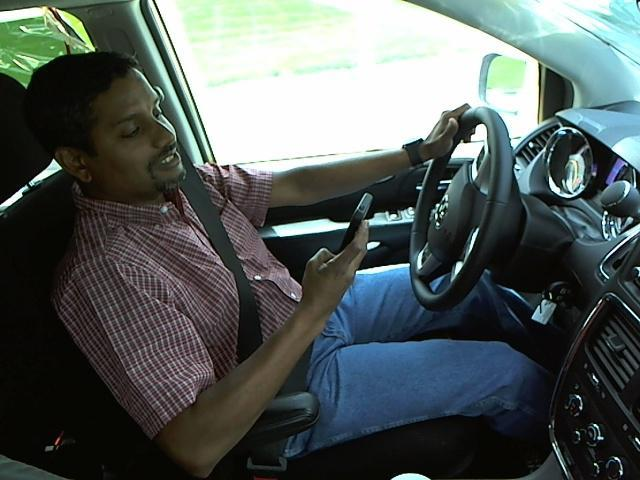PhoneUse: (332, 187, 379, 261)
